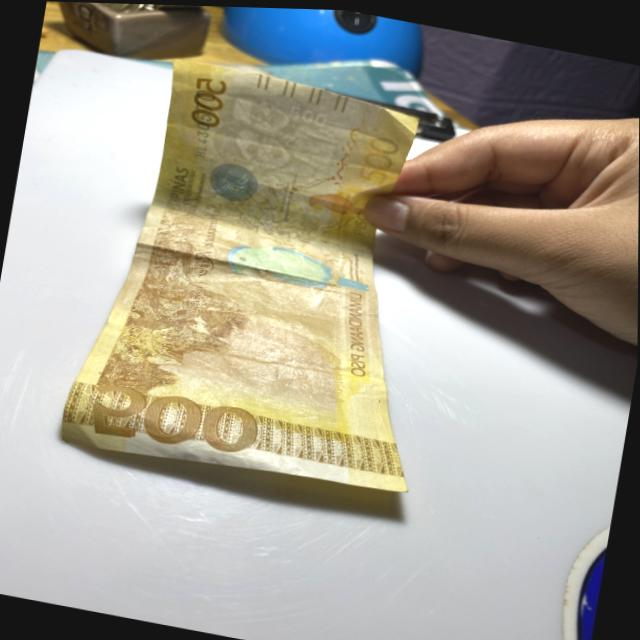500_big_parrot: (215, 228, 374, 308)
500_parrot_watermark: (301, 181, 366, 226)
value_watermark: (285, 100, 340, 129)
watermark: (204, 79, 355, 190)
